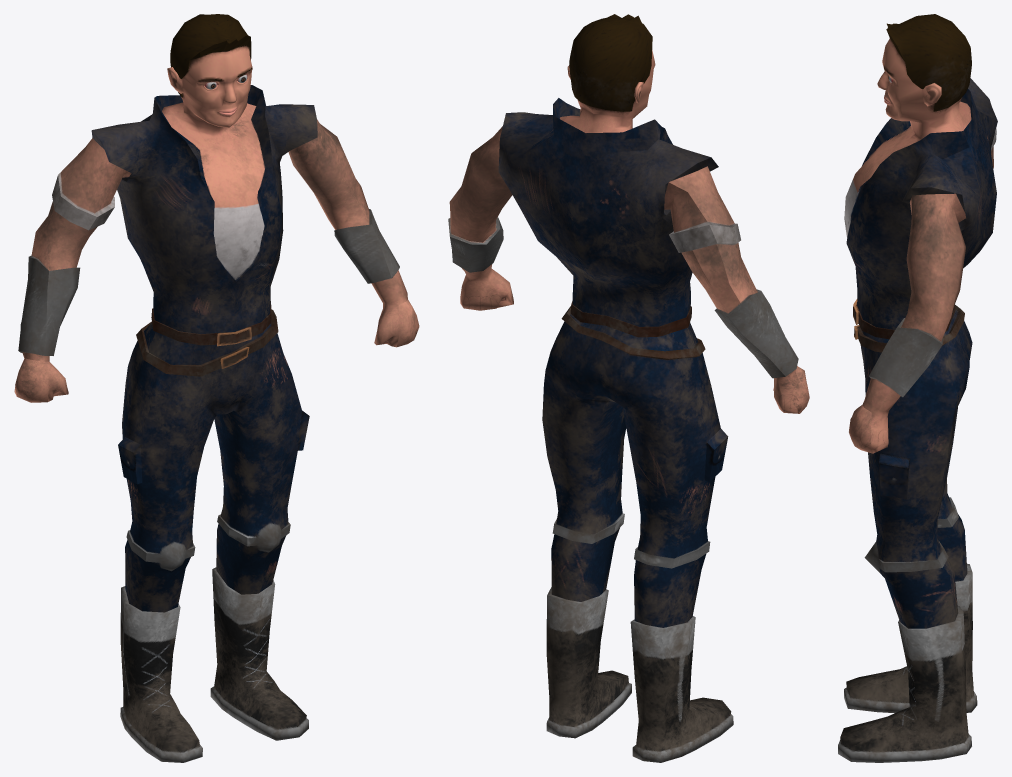
File: Anim_dash_jugador.0014.obj
3 views of the same model, side by side, from view 1: azimuth 30°, elevation 25°; view 2: azimuth 150°, elevation 25°; view 3: azimuth 270°, elevation 25° (orthographic). The views are drawn at different scales.
Visible parts, largest first — view 1: polySurface1; view 2: polySurface1; view 3: polySurface1.
Part boxes in pixels (x1,y1,x2,y2): polySurface1: (14, 14, 419, 762); polySurface1: (448, 14, 809, 762); polySurface1: (838, 14, 997, 762).
Bounding box in the file's own units: 5.31 × 9.61 × 1.95.
